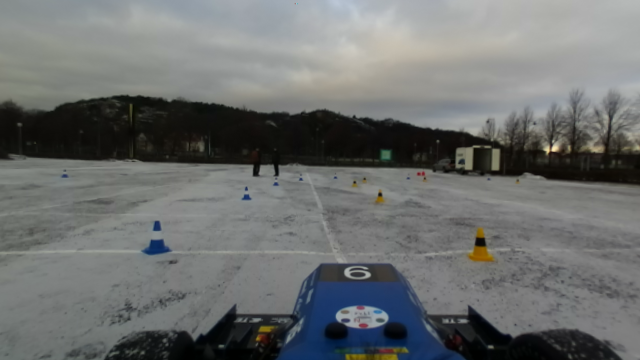blue: (141, 218, 172, 257)
yellow: (467, 225, 494, 265)
